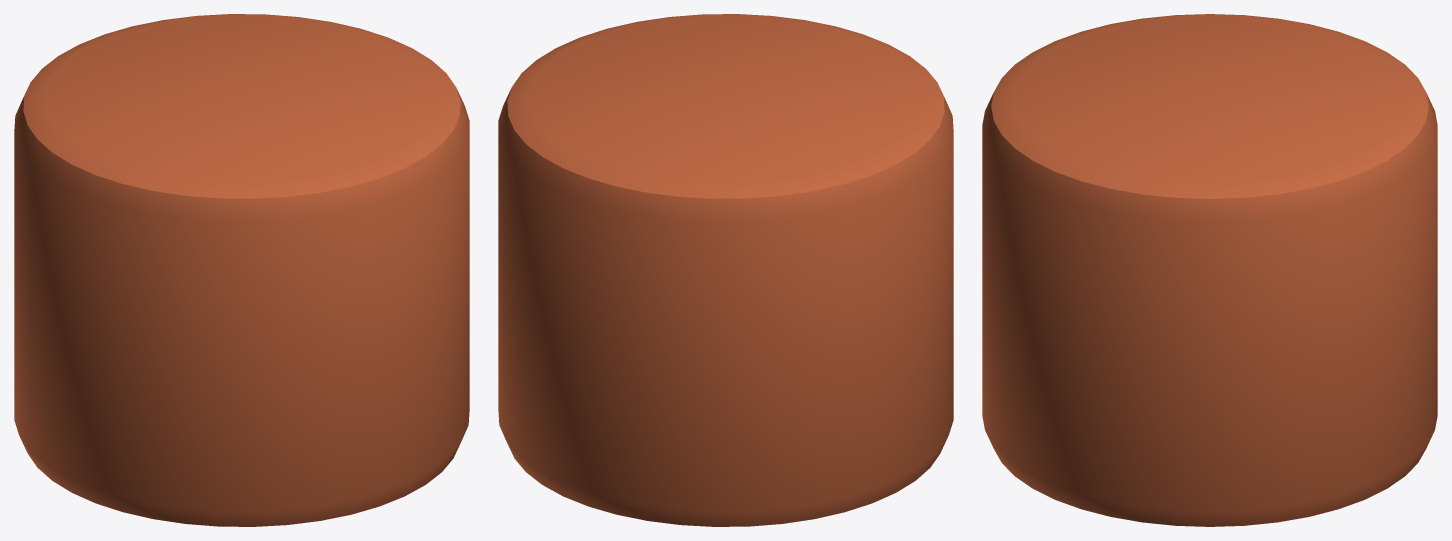
The model's file is paddle_mixer_lock_button.glb.
3 renders of one model, left to right at view 1: azimuth 30°, elevation 25°; view 2: azimuth 150°, elevation 25°; view 3: azimuth 270°, elevation 25°, orthographic.
Visible parts, largest first — view 1: paddle_mixer_lock_button; view 2: paddle_mixer_lock_button; view 3: paddle_mixer_lock_button.
Boxes of the visible parts, box(x1,y1,x2,y2) form: paddle_mixer_lock_button: box(14, 14, 469, 526); paddle_mixer_lock_button: box(498, 14, 953, 526); paddle_mixer_lock_button: box(982, 14, 1437, 526).
Size of the model in its own units: 0.012 by 0.01 by 0.012.
